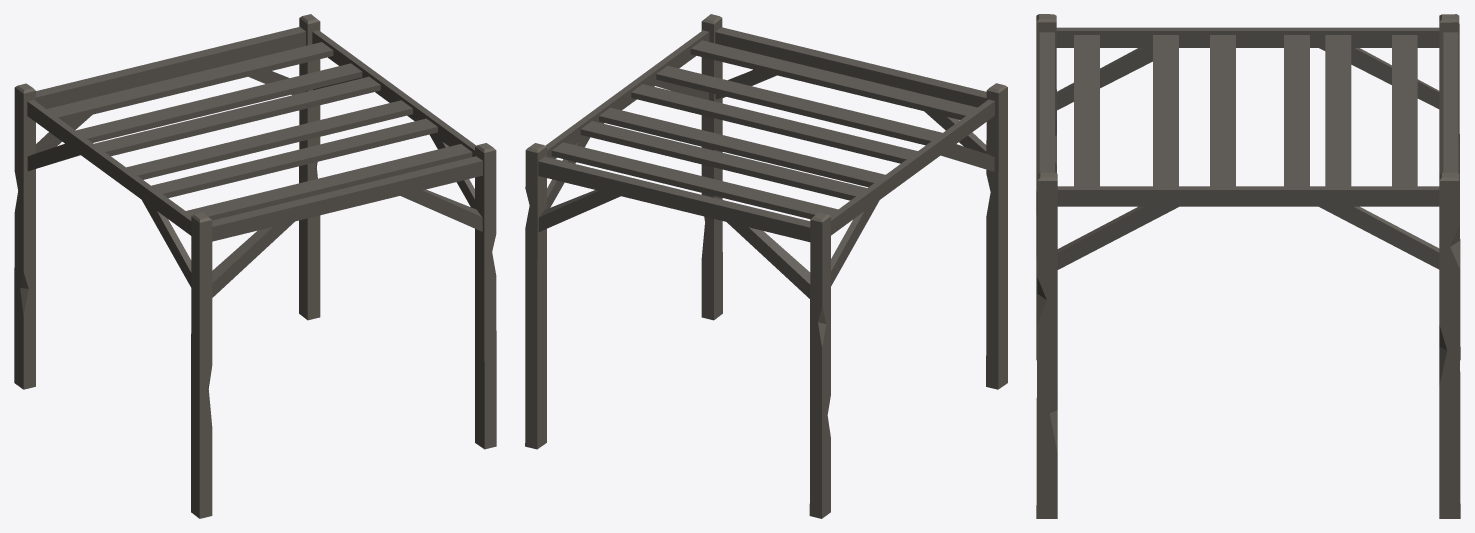
Rendered from SM_Bld_Village_Cover_01.fbx.
3 renders of one model, left to right at view 1: azimuth 30°, elevation 25°; view 2: azimuth 150°, elevation 25°; view 3: azimuth 270°, elevation 25°, orthographic. The views are drawn at different scales.
Parts seen in each view (by area): view 1: SM_Bld_Village_Cover_01; view 2: SM_Bld_Village_Cover_01; view 3: SM_Bld_Village_Cover_01.
Part boxes in pixels (x1=…): SM_Bld_Village_Cover_01: x1=14, y1=14, x2=496, y2=518; SM_Bld_Village_Cover_01: x1=525, y1=14, x2=1007, y2=518; SM_Bld_Village_Cover_01: x1=1036, y1=14, x2=1460, y2=518.
Size of the model in its own units: 417 by 400 by 452.
